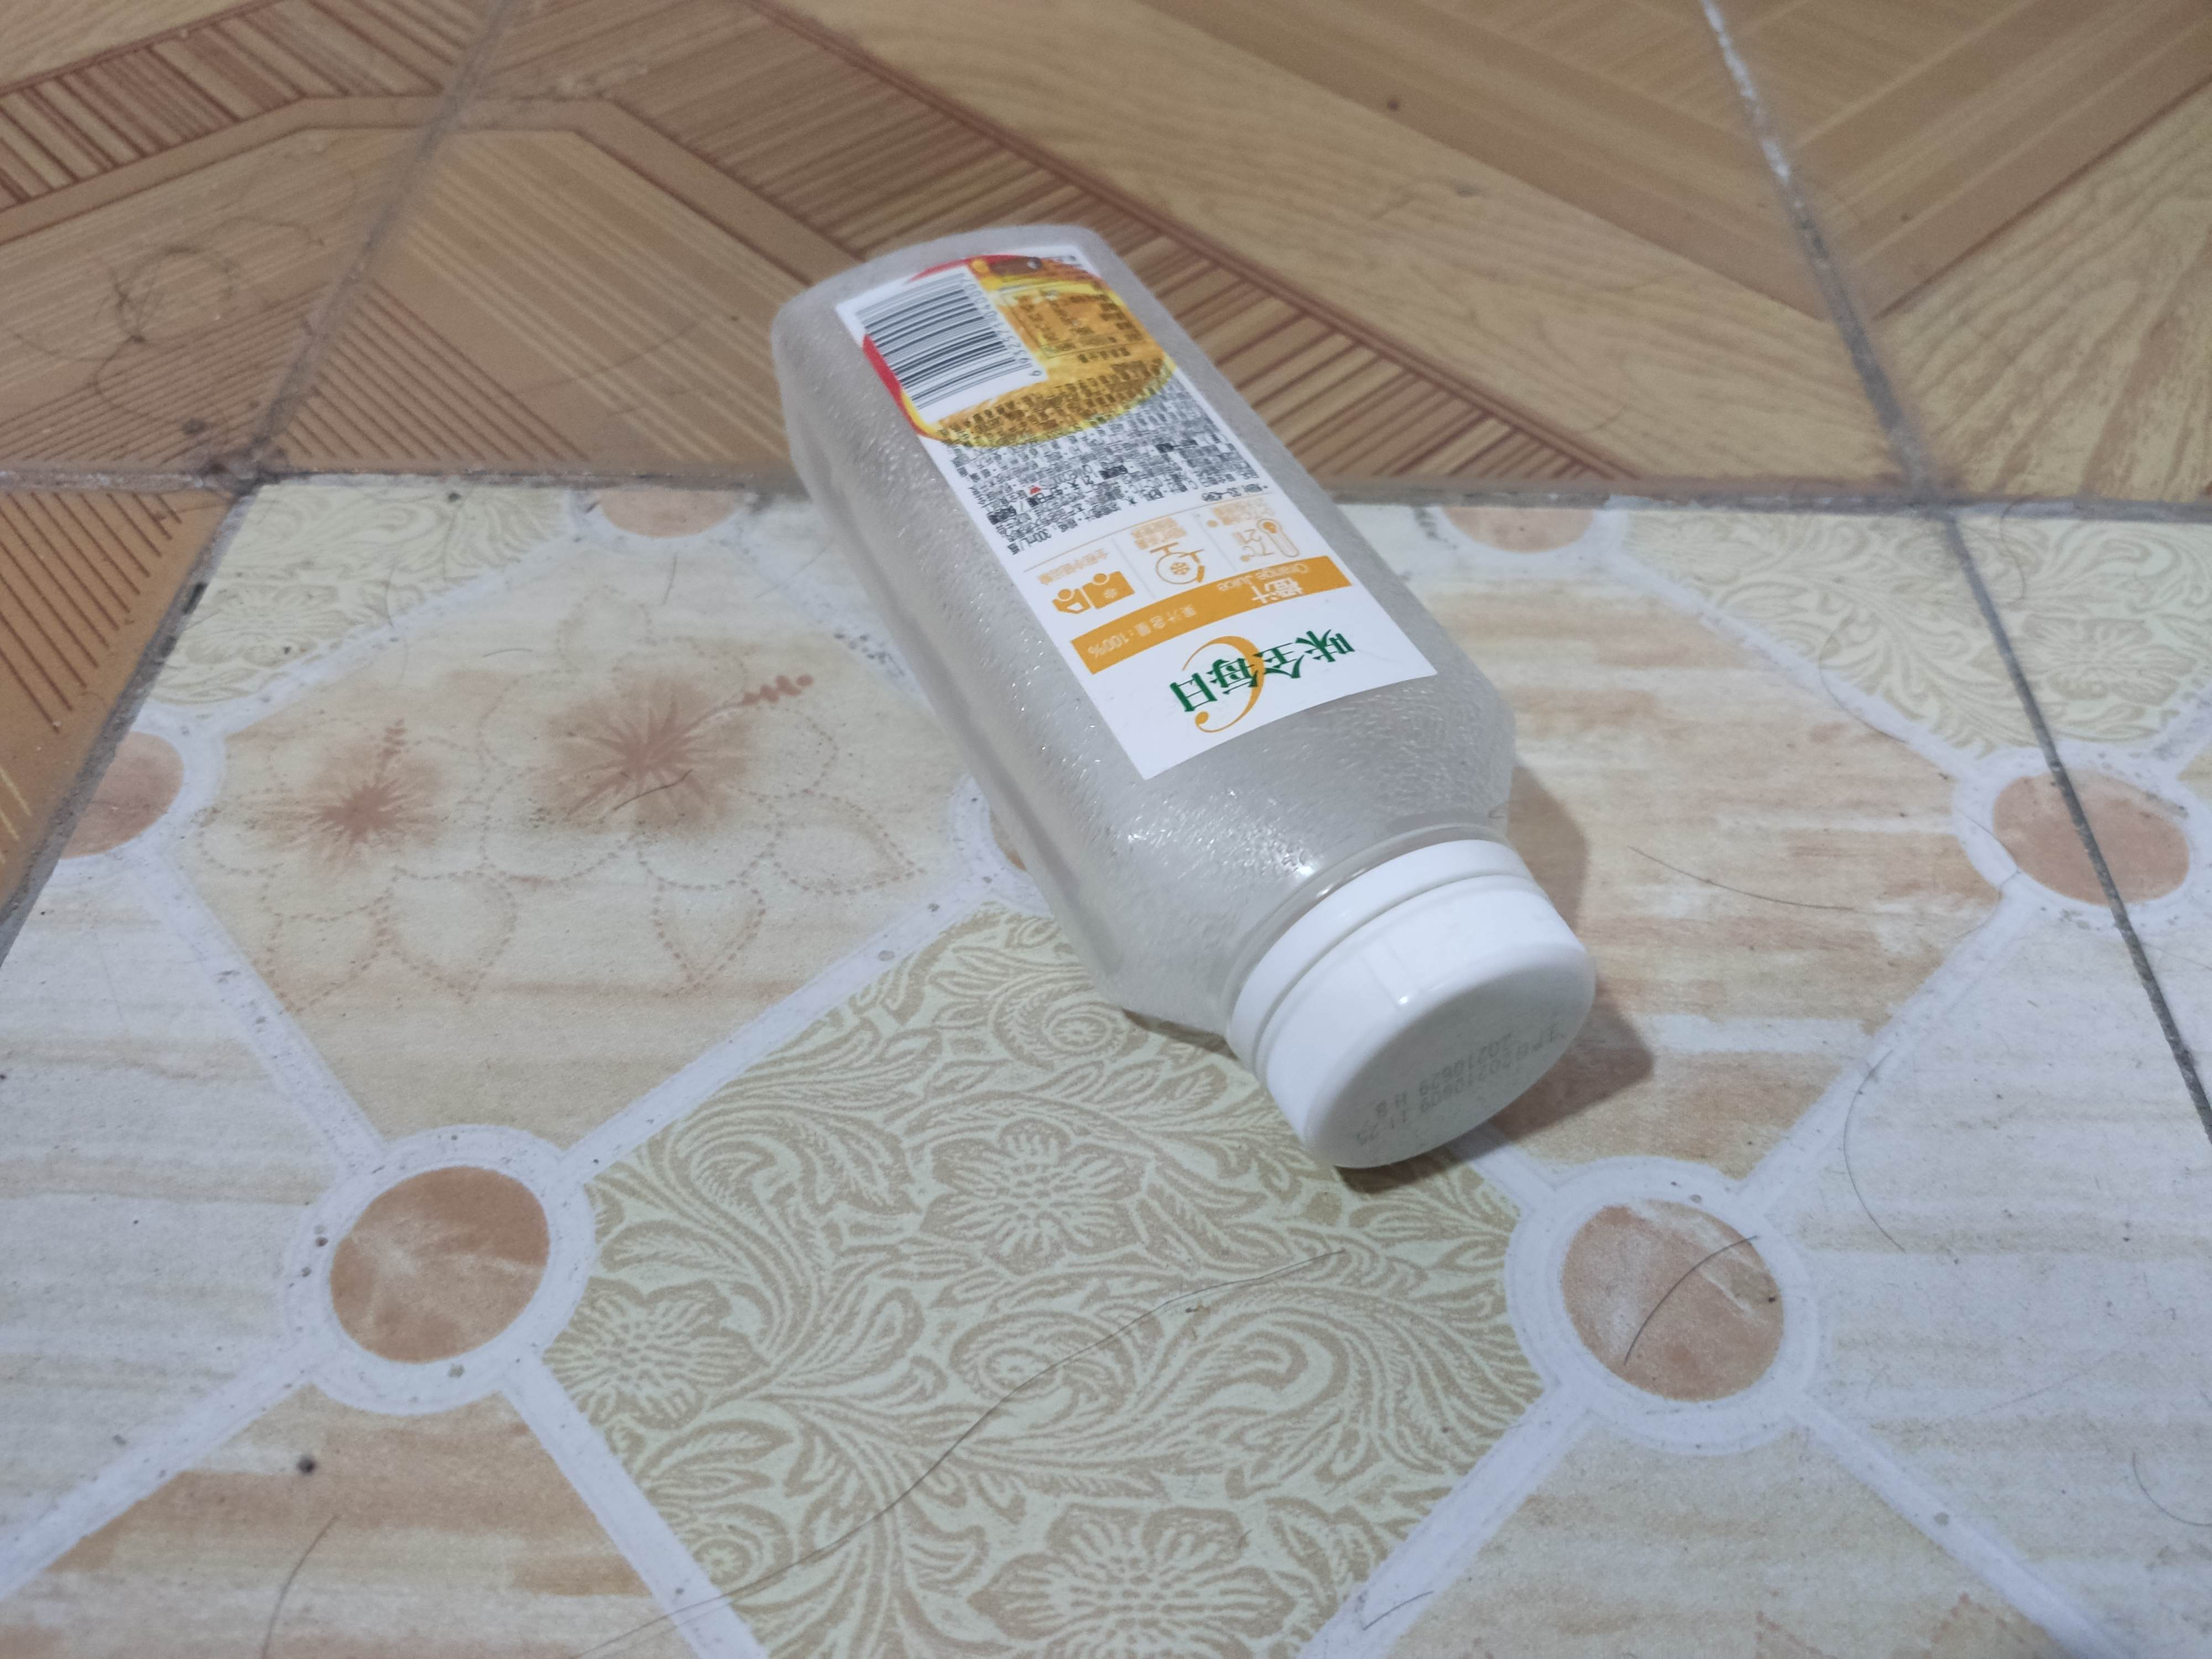Plastic Bottle: (759, 213, 1616, 1192)
